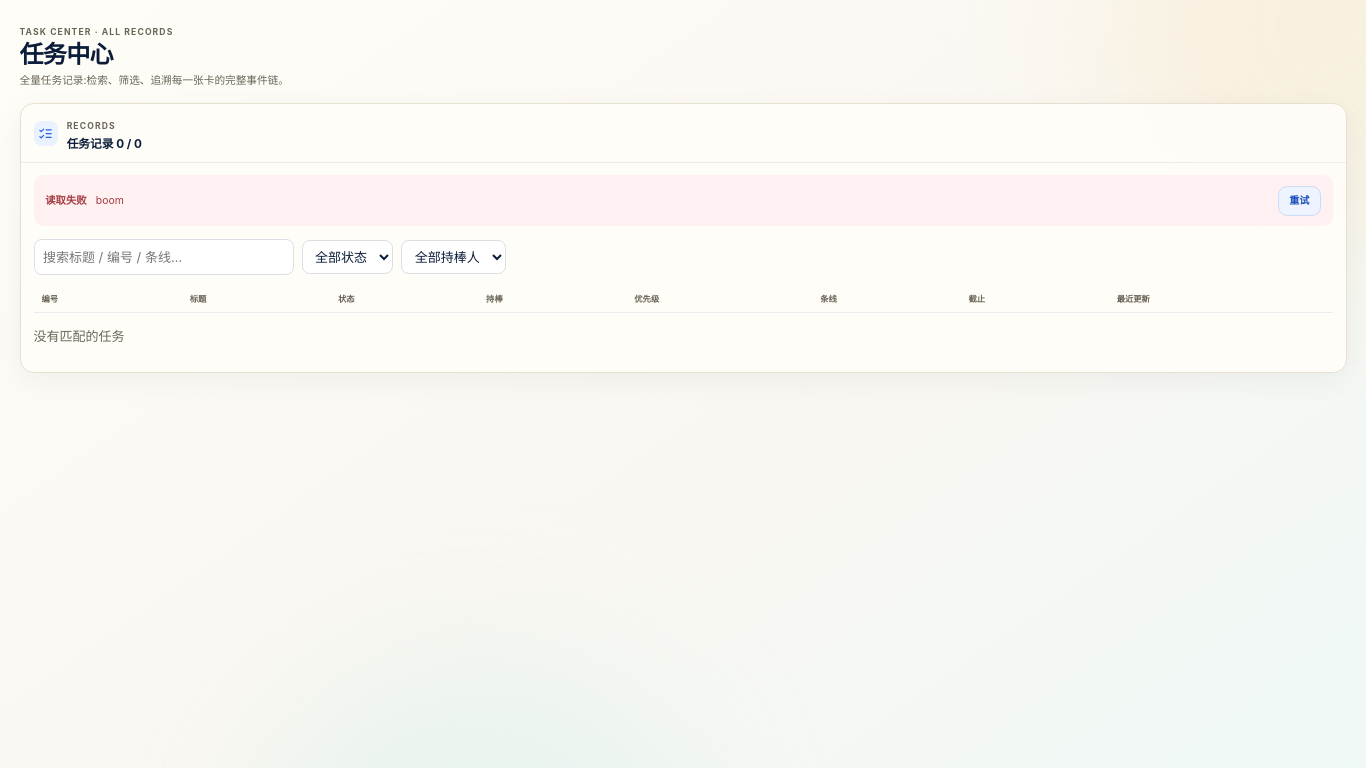
it: TaskCenter 筛选 › 接口失败显示错误与重试，重试成功后恢复
Expected: the message shows "boom", [96,194,124,207]
Click the button "重试" at x=1299, y=201, box [1278,186,1321,216]
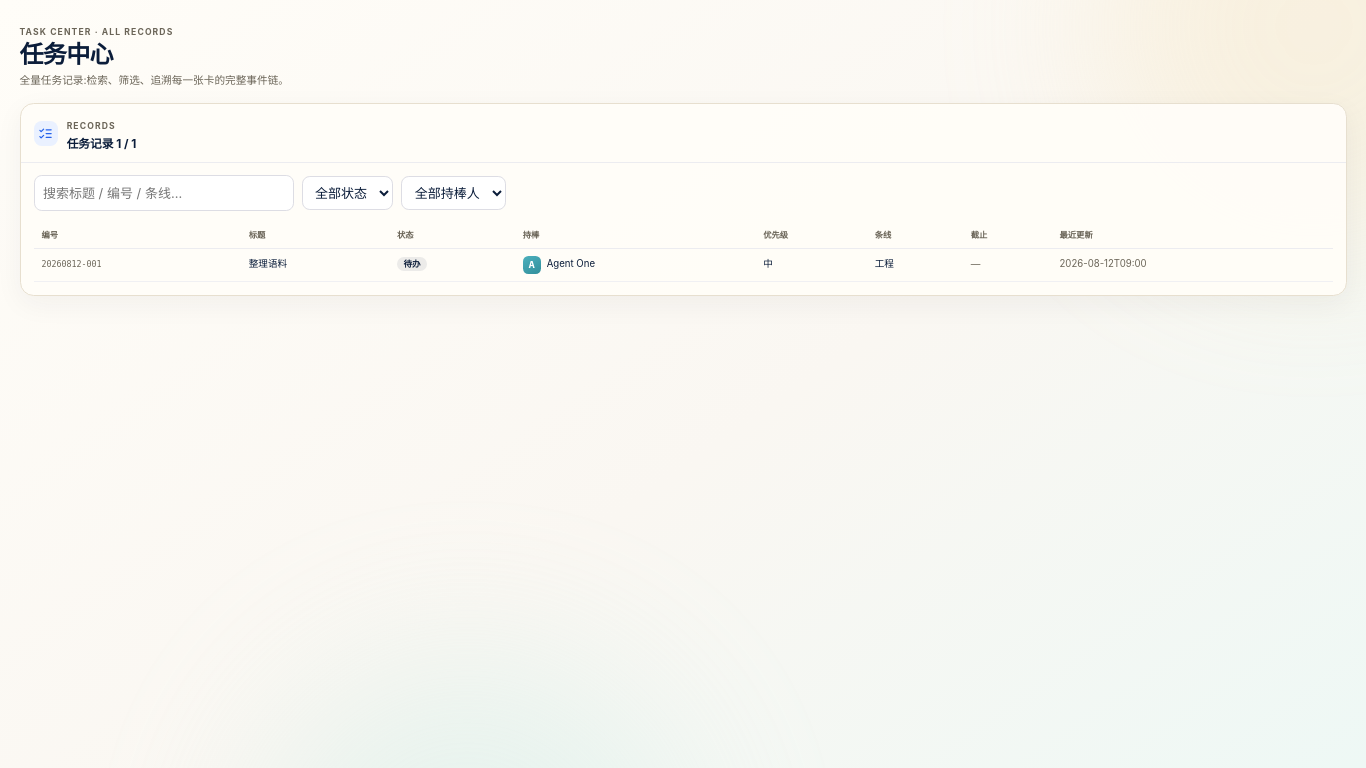
Result: the text "整理语料" is shown at [241,248,389,281]
